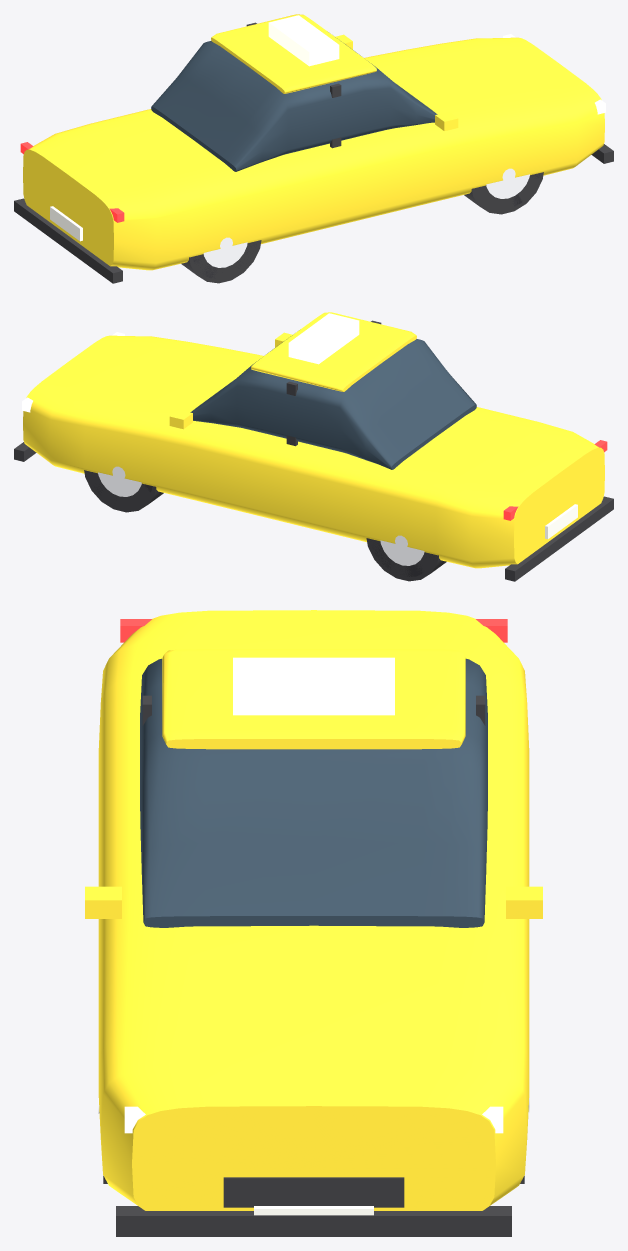
The model's file is car-taxi.glb.
The picture shows the model from 3 angles, top to bottom: view 1: azimuth 30°, elevation 25°; view 2: azimuth 150°, elevation 25°; view 3: azimuth 270°, elevation 25°; orthographic projection. The views are drawn at different scales.
Visible parts, largest first — view 1: body, wheelRR, wheelFR; view 2: body, wheelRL, wheelFL; view 3: body.
Boxes of the visible parts, x1,y1,x2,y2 form: body: (14,14,613,283); wheelRR: (193,237,256,277); wheelFR: (486,168,539,206); body: (14,312,613,581); wheelRL: (372,535,434,576); wheelFL: (94,466,152,496); body: (85,610,542,1236).
Size of the model in its own units: 5 by 1.69 by 1.98.
